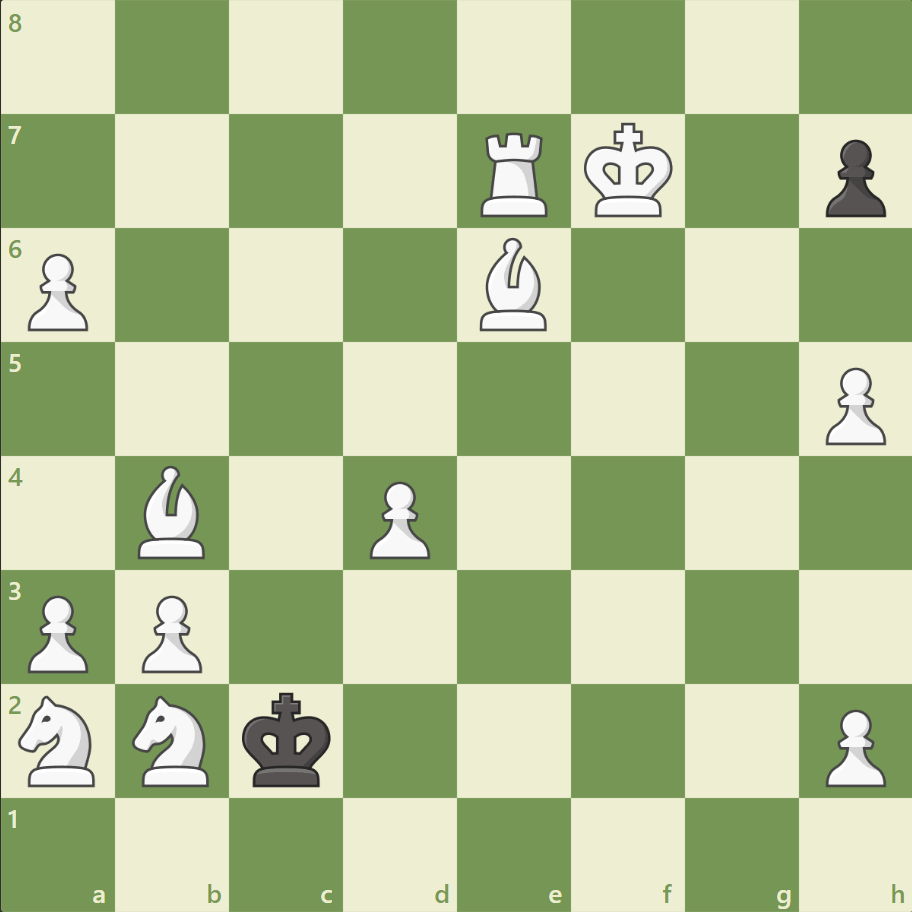B: (471, 233, 555, 336), (131, 460, 215, 563)
K: (579, 117, 679, 225)
N: (124, 688, 222, 791), (11, 688, 108, 791)
P: (20, 246, 95, 337), (20, 586, 95, 677), (133, 586, 208, 677), (815, 359, 889, 450), (361, 473, 435, 564), (815, 700, 889, 791)
R: (473, 125, 556, 222)
k: (238, 685, 338, 793)
p: (815, 132, 889, 223)
